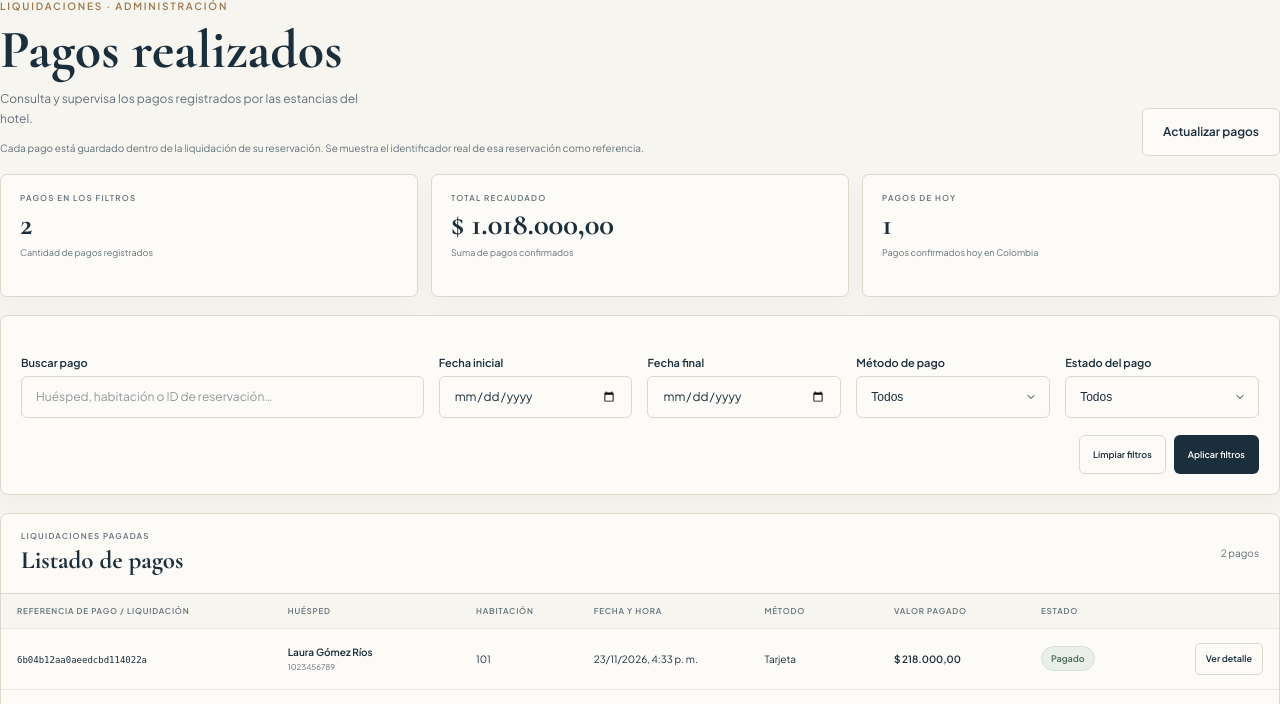
it: PaymentsPage › abre el comprobante del pago desde el detalle
The image size is (1280, 704).
Expected: the text "Laura Gómez Ríos" is shown, [288,646,373,658]
Click the button "Ver detalle" in the row of "6b04b12aa0aeedcbd114022a" at {"x": 1229, "y": 659}, box [1195,643,1263,675]
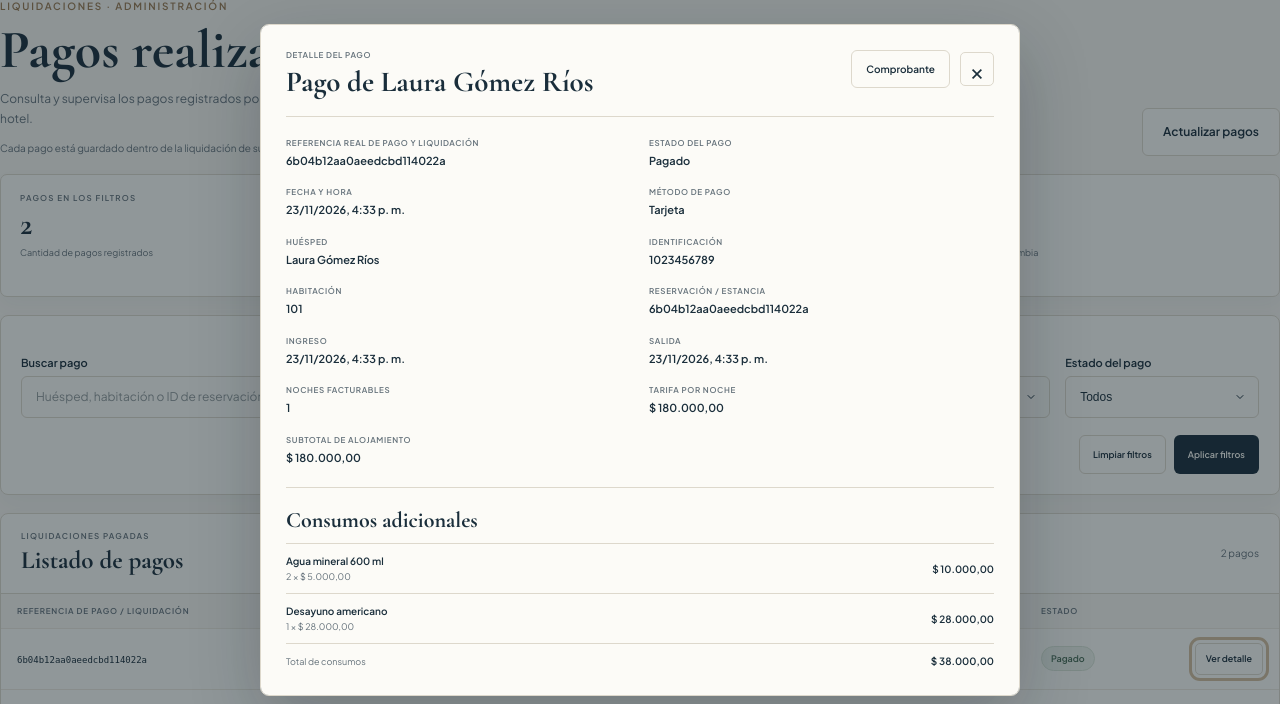
Click the button "Comprobante" at {"x": 901, "y": 69}, box [851,50,950,88]
(page scrolled)
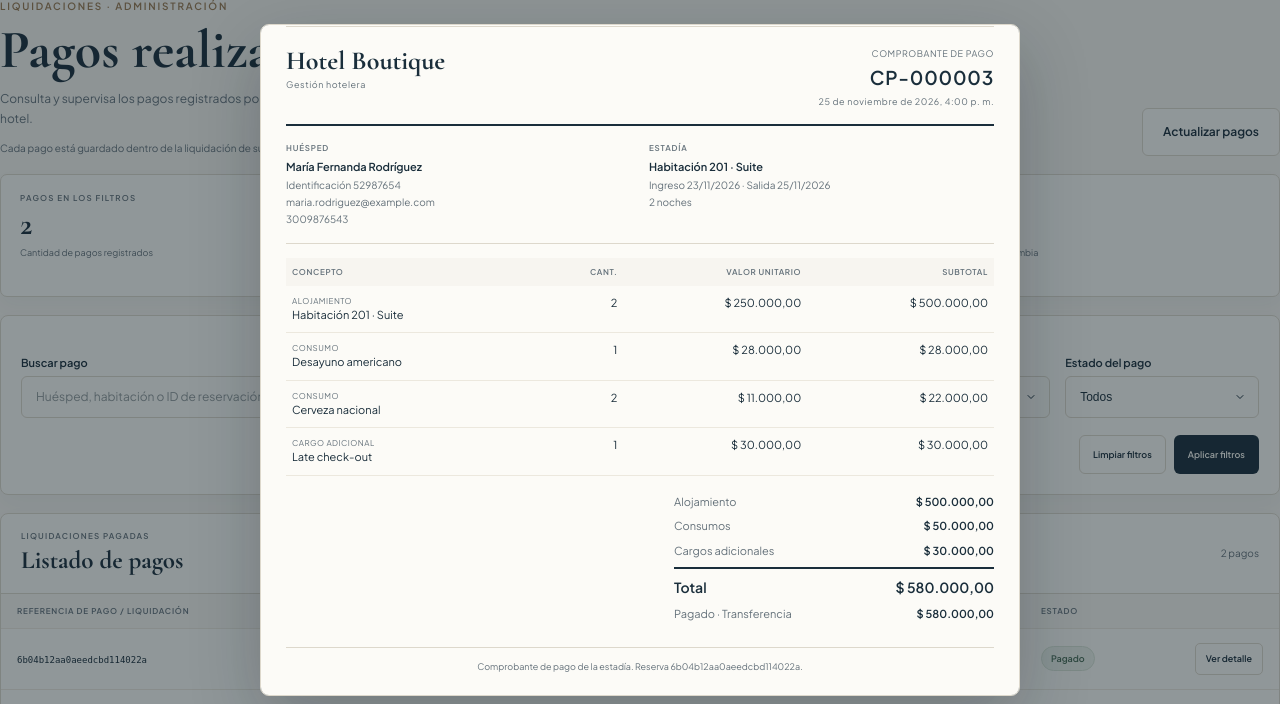
Expected: the element that starts with "Hotel Boutique" is shown, [286,47,994,673]
Expected: the heading "Pago de Laura Gómez Ríos" is gone
